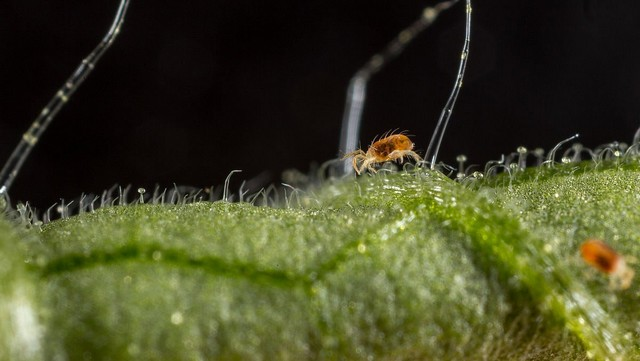Mites: (344, 117, 444, 188)
